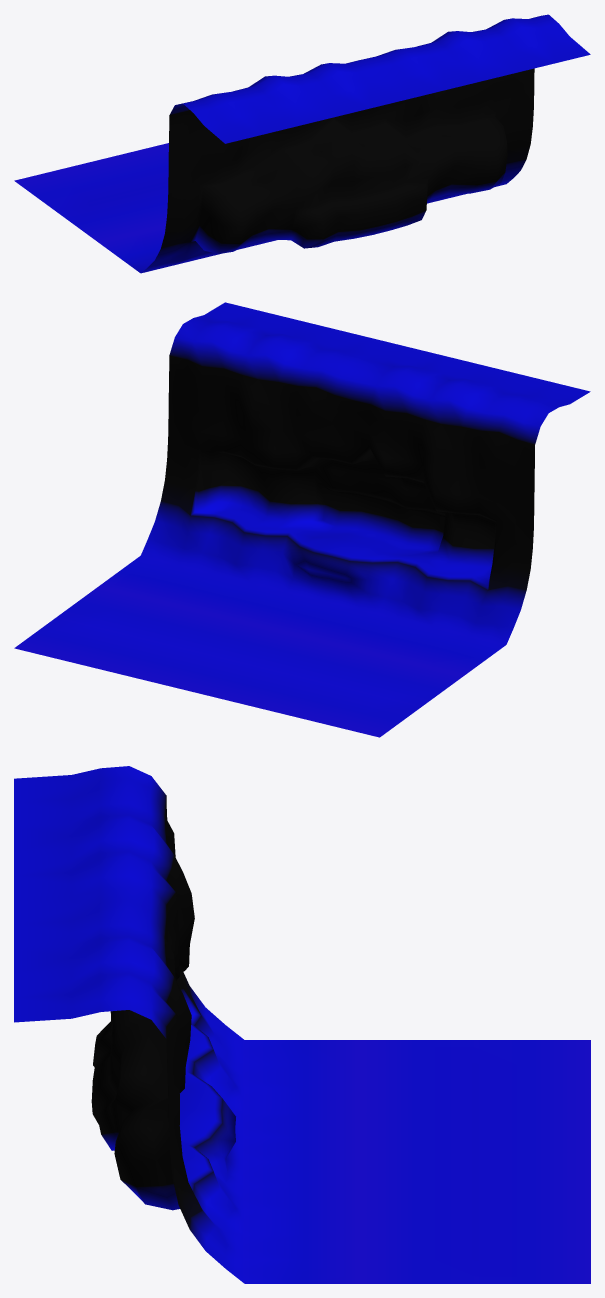
File: WaterFallCliff02A 2M.fbx
3 renders of one model, top to bottom at view 1: azimuth 30°, elevation 25°; view 2: azimuth 150°, elevation 25°; view 3: azimuth 270°, elevation 25°, orthographic. The views are drawn at different scales.
Visible parts, largest first — view 1: WaterFallCliff02A 2M; view 2: WaterFallCliff02A 2M; view 3: WaterFallCliff02A 2M.
Part boxes in pixels (<box>): WaterFallCliff02A 2M: <box>14,14,590,273</box>; WaterFallCliff02A 2M: <box>14,302,590,737</box>; WaterFallCliff02A 2M: <box>14,766,590,1283</box>.
Bounding box in the file's own units: 2 × 1.08 × 2.
